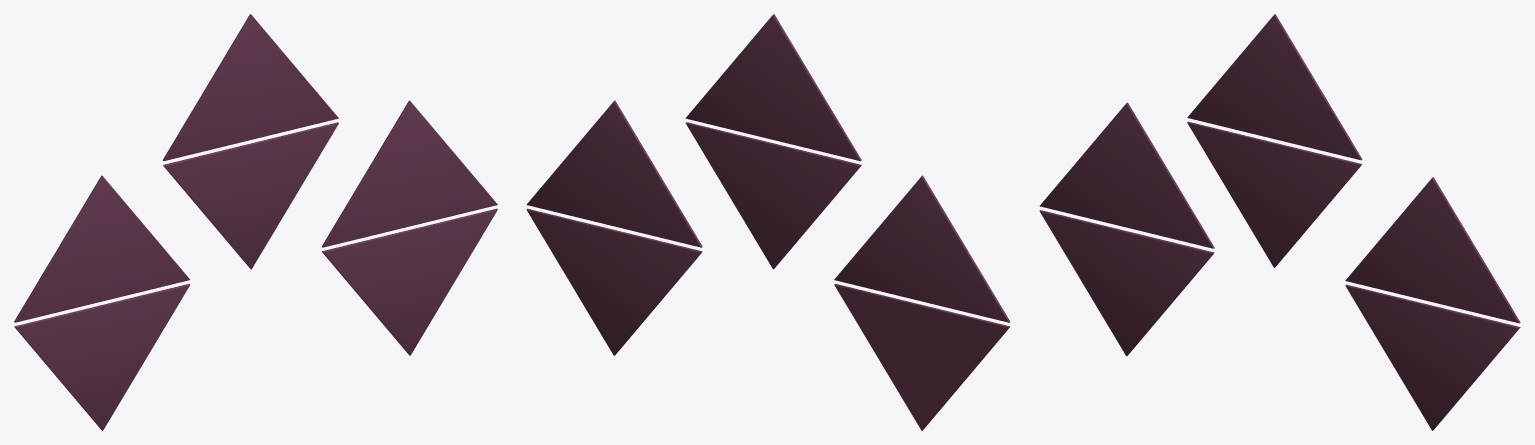
The picture shows the model from 3 angles, left to right: view 1: azimuth 30°, elevation 25°; view 2: azimuth 150°, elevation 25°; view 3: azimuth 330°, elevation 25°; orthographic projection.
Parts seen in each view (by area): view 1: diamond; view 2: diamond; view 3: diamond.
Boxes of the visible parts, left/top/right/bottom form: diamond: left=14, top=14, right=497, bottom=430; diamond: left=526, top=14, right=1010, bottom=430; diamond: left=1039, top=14, right=1520, bottom=430.
Bounding box in the file's own units: 125 × 94.21 × 0.7023.
